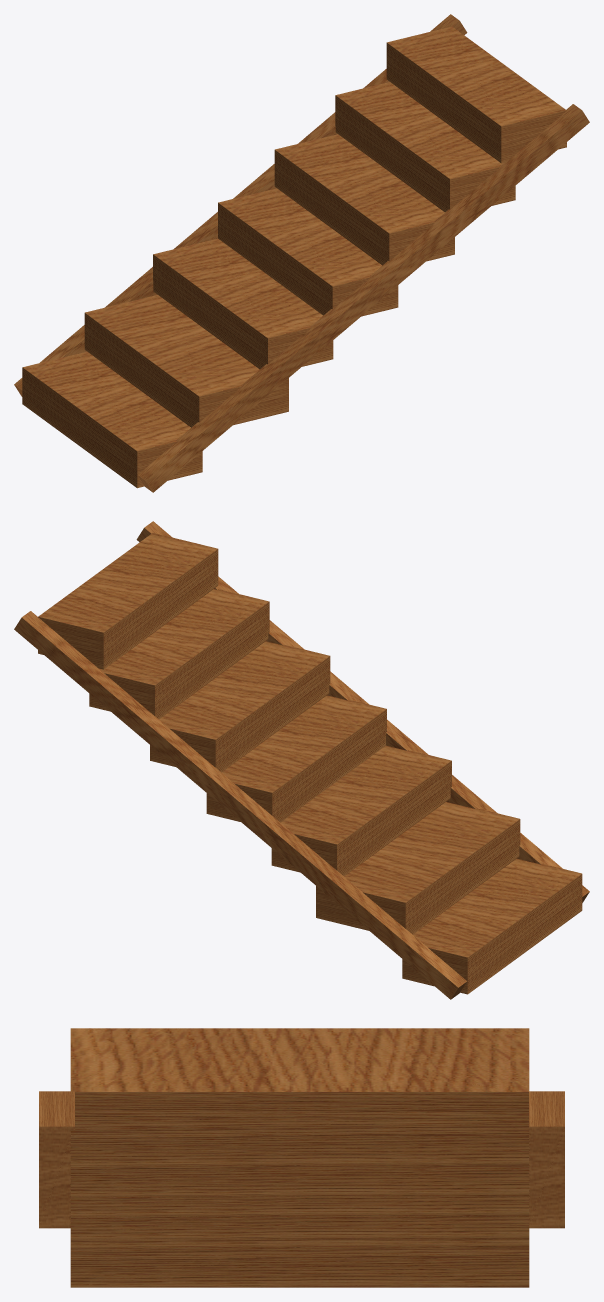
The model's file is Stairs.fbx.
3 views of the same model, one above another, from view 1: azimuth 30°, elevation 25°; view 2: azimuth 150°, elevation 25°; view 3: azimuth 270°, elevation 25° (orthographic). The views are drawn at different scales.
Visible parts, largest first — view 1: Stairs (×9); view 2: Stairs (×9); view 3: Stairs (×8).
Part boxes in pixels (x1,y1,x2,y2): Stairs (×9): (14, 14, 589, 492); Stairs (×9): (14, 521, 589, 999); Stairs (×8): (39, 1028, 564, 1287).
Size of the model in its own units: 221 by 132 by 113.
1 material, 1 textured.
